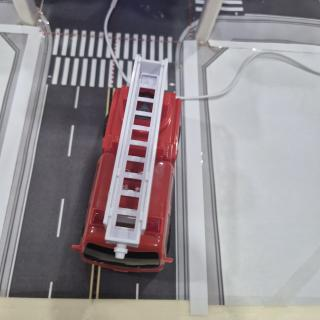Fire_truck: (72, 55, 181, 272)
